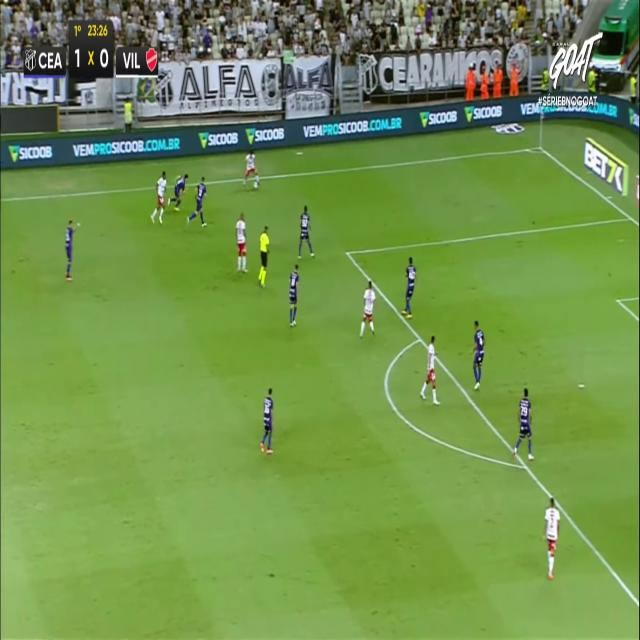ball: (253, 182, 260, 190)
player: (511, 386, 535, 461), (543, 498, 560, 579), (420, 333, 439, 404), (186, 175, 207, 227), (400, 256, 416, 318), (65, 218, 81, 280), (297, 205, 315, 257), (359, 280, 375, 337), (471, 319, 484, 389), (260, 387, 273, 453), (150, 170, 166, 223), (170, 171, 190, 212), (235, 211, 247, 271), (243, 150, 260, 189), (288, 264, 298, 326)
referee: (258, 225, 269, 287)
